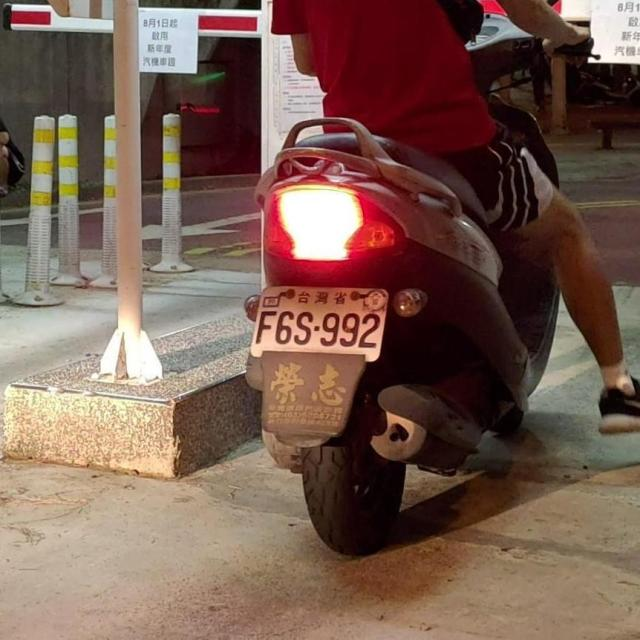W: (248, 278, 393, 366)
